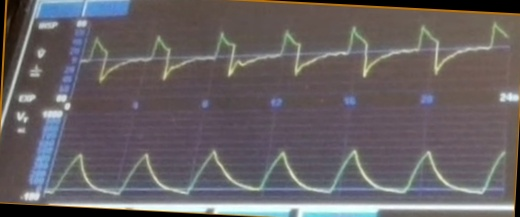Premature_cycling Flow: (88, 21, 509, 89)
Premature_cycling Volume: (53, 142, 503, 197)
